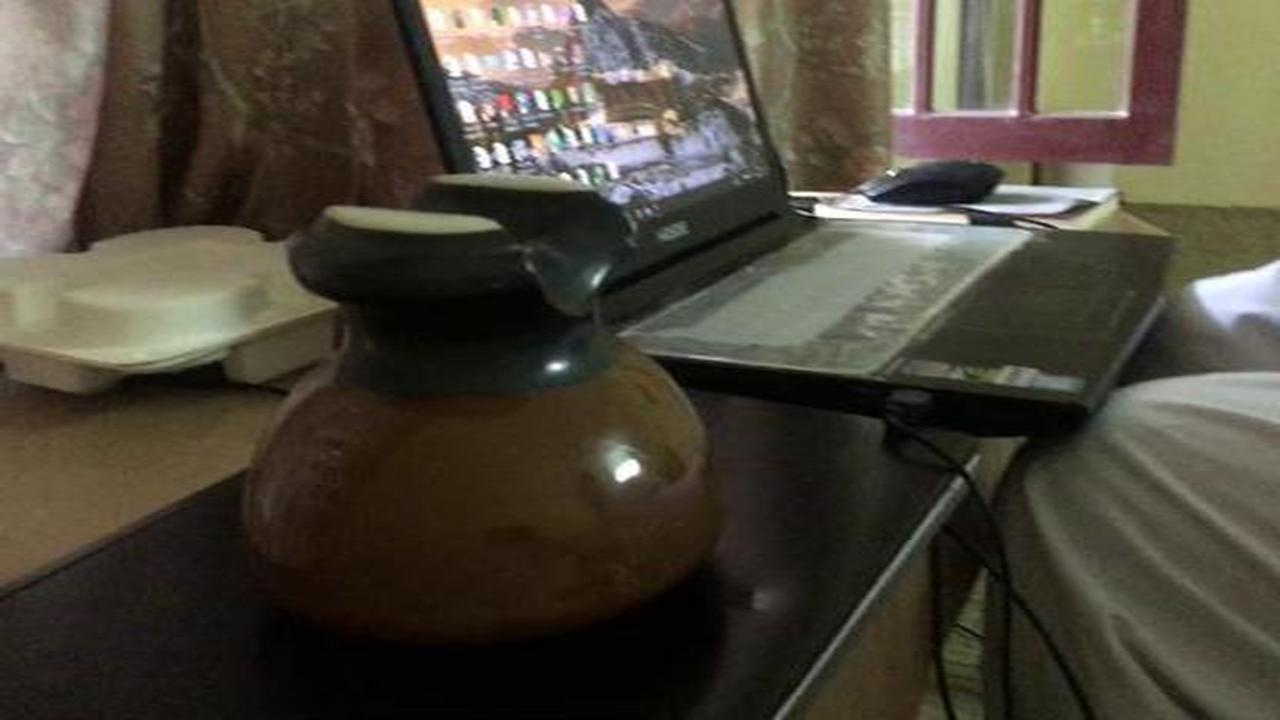insulator_pin: (222, 153, 742, 667)
